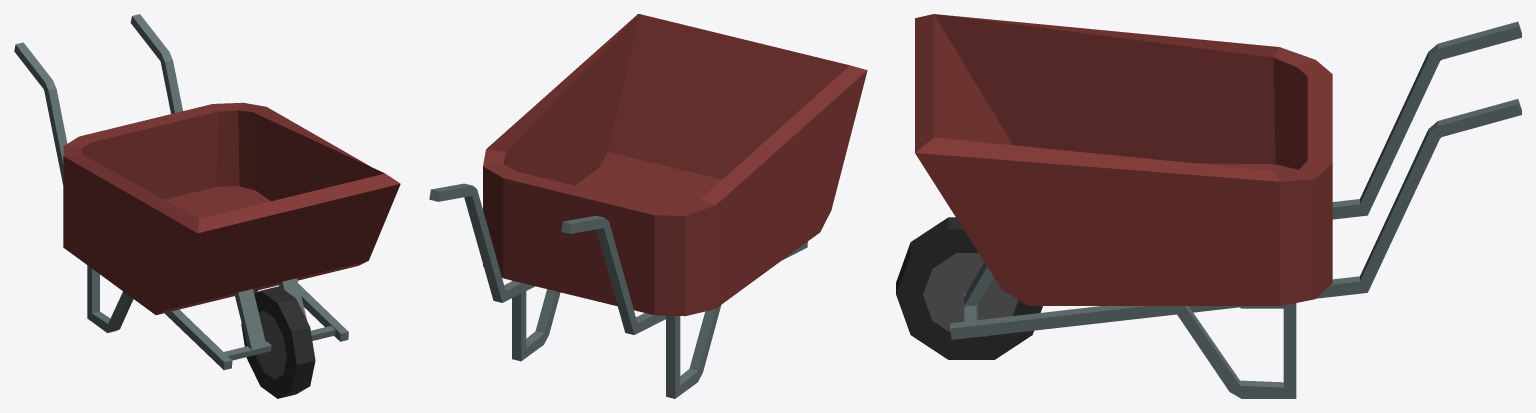
The model's file is Wheelbarrow_1_Red.fbx.
3 renders of one model, left to right at view 1: azimuth 30°, elevation 25°; view 2: azimuth 150°, elevation 25°; view 3: azimuth 270°, elevation 25°, orthographic. The views are drawn at different scales.
Visible parts, largest first — view 1: Wheelbarrow_1_Red; view 2: Wheelbarrow_1_Red; view 3: Wheelbarrow_1_Red.
Part boxes in pixels (x1,y1,x2,y2): Wheelbarrow_1_Red: (14,14,400,398); Wheelbarrow_1_Red: (429,14,867,398); Wheelbarrow_1_Red: (896,14,1521,398).
Bounding box in the file's own units: 112 × 113 × 220.
